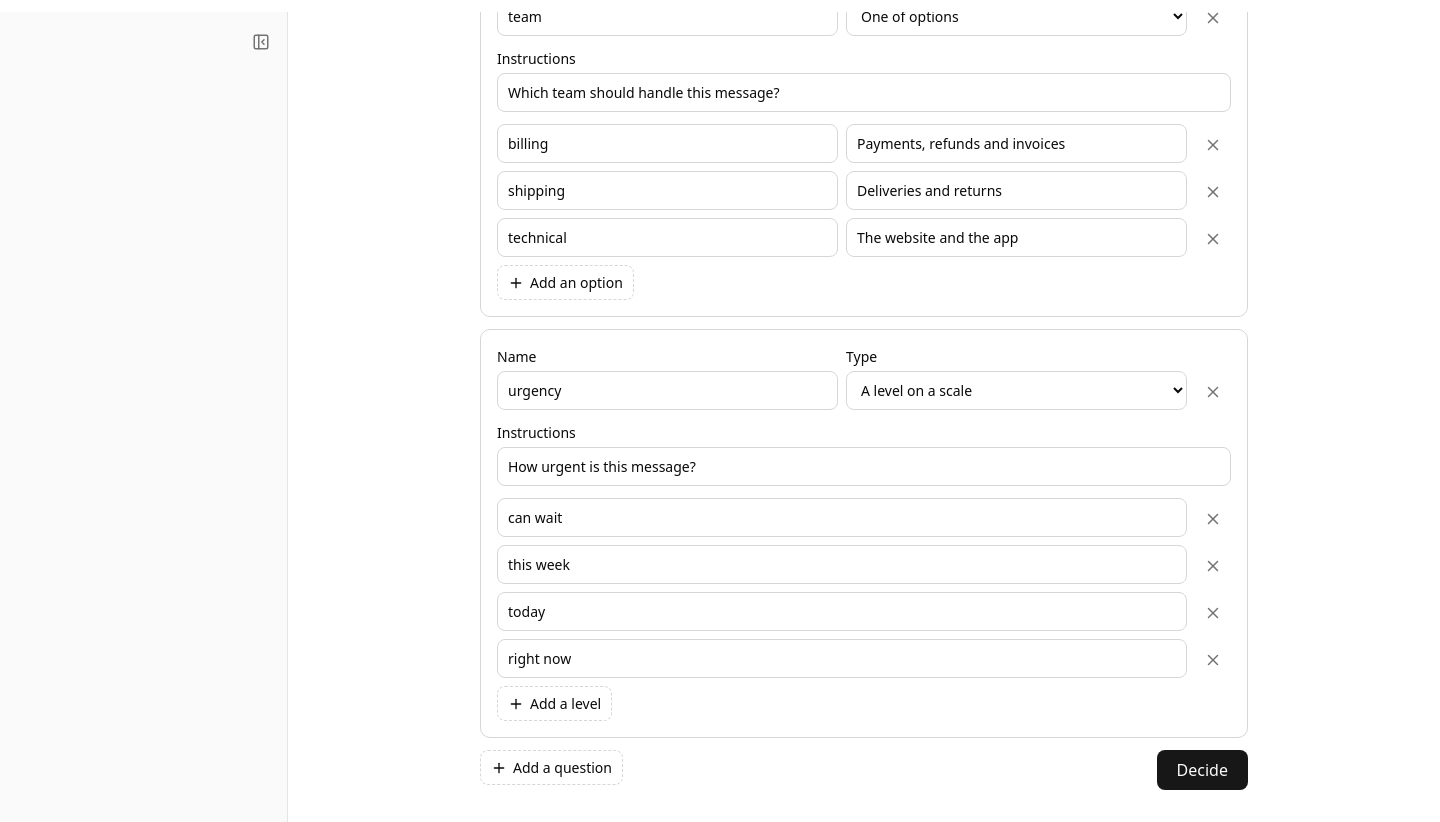
it: a failure is explained, with the backend message as a detail
(page scrolled)
Click the button "Decide" at x=1202, y=770, box x1=1157 y1=750 x2=1248 y2=790
(page scrolled)
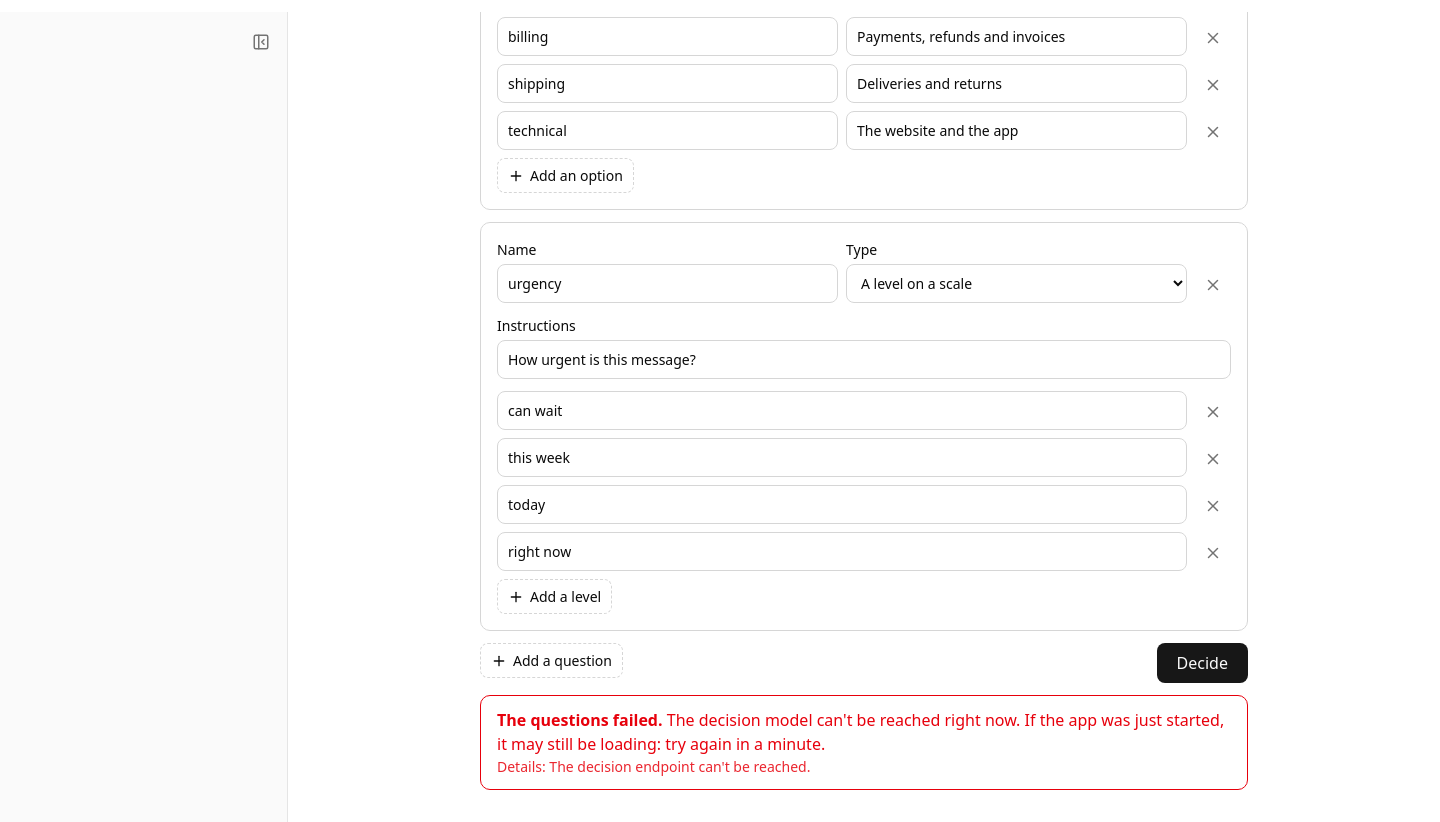
Expected: the message shows "The decision model can't be reached", x1=497 y1=709 x2=1224 y2=755
Expected: the message shows "Details: The decision endpoint can't be reached.", x1=480 y1=695 x2=1248 y2=790
